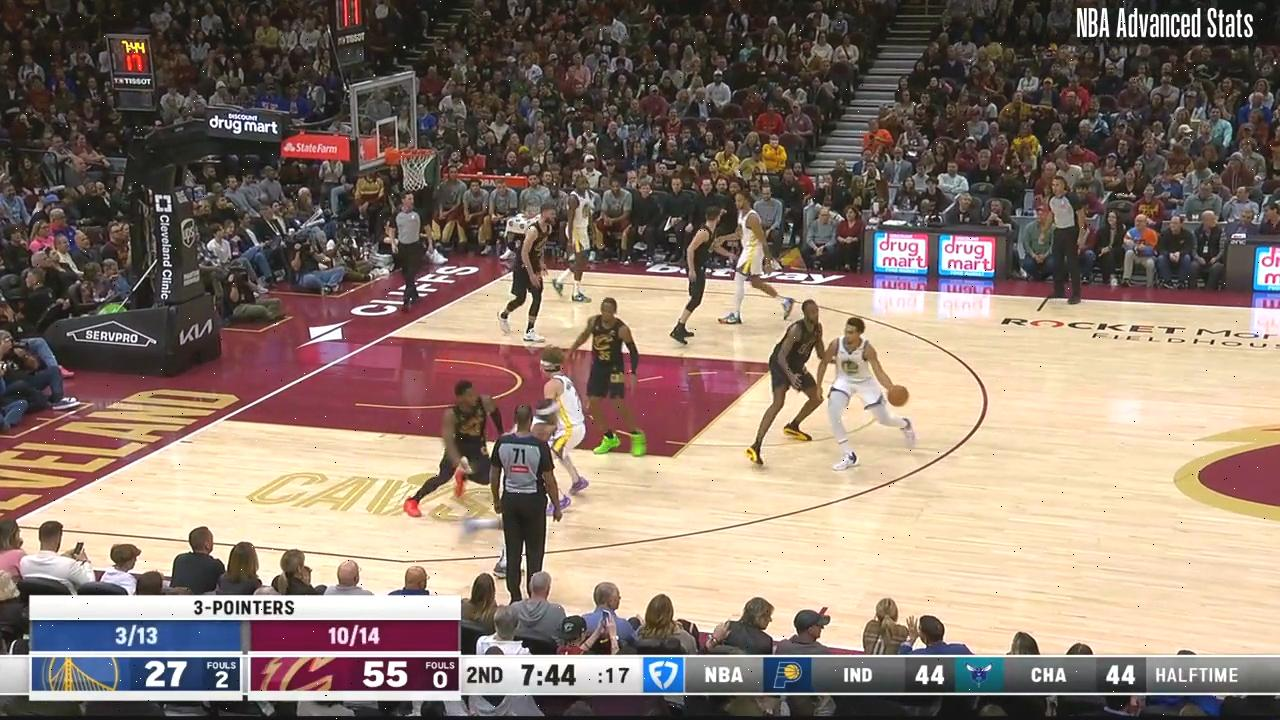basketball: (886, 380, 910, 408)
